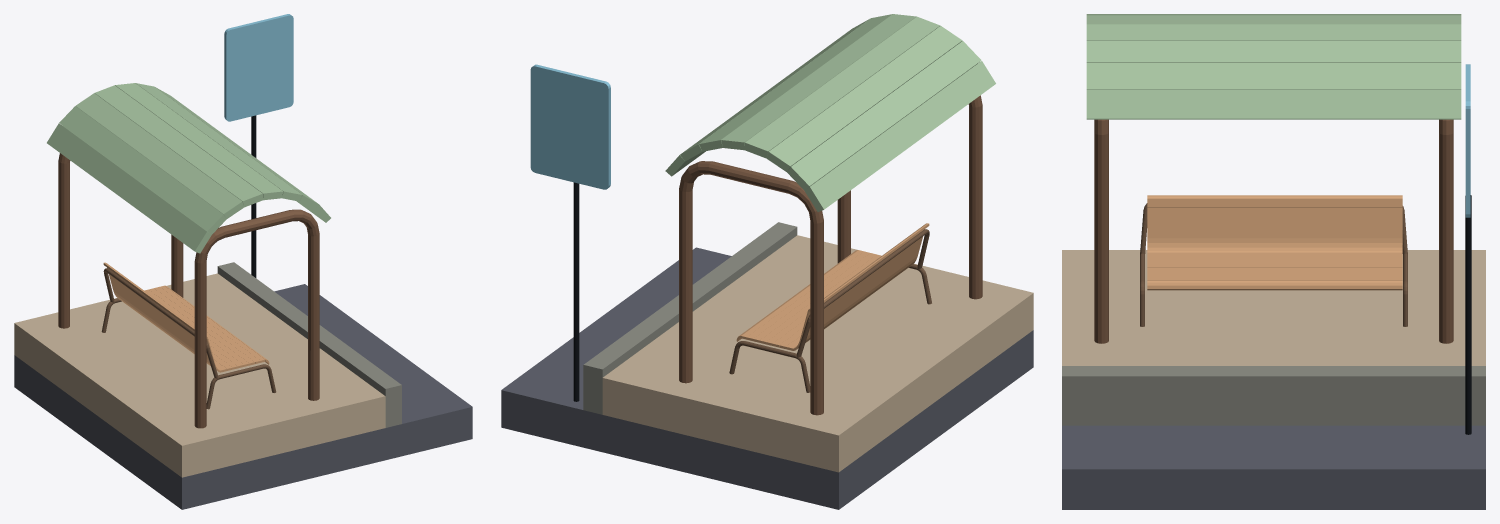
File: bus stop.glb
3 views of the same model, side by side, from view 1: azimuth 30°, elevation 25°; view 2: azimuth 150°, elevation 25°; view 3: azimuth 270°, elevation 25° (orthographic). The views are drawn at different scales.
Visible parts, largest first — view 1: Base, Roof, Road, Roof_frame, Sign, Chair, Sidewalk, Chair_frame, Sign_post; view 2: Base, Roof, Road, Roof_frame, Sign, Chair, Sidewalk, Chair_frame, Sign_post; view 3: Roof, Road, Base, Sidewalk, Chair, Roof_frame, Sign_post, Chair_frame, Sign.
Boxes of the visible parts, <box> form: Base: <box>14,273,385,477</box>; Roof: <box>47,83,330,253</box>; Road: <box>14,284,472,509</box>; Roof_frame: <box>58,153,319,428</box>; Sign: <box>224,14,293,121</box>; Chair: <box>103,262,269,372</box>; Sidewalk: <box>217,262,401,427</box>; Chair_frame: <box>101,268,276,409</box>; Sign_post: <box>251,115,256,277</box>; Base: <box>602,235,1033,472</box>; Roof: <box>665,14,995,211</box>; Road: <box>501,247,1033,509</box>; Roof_frame: <box>679,95,982,415</box>; Sign: <box>530,64,610,189</box>; Chair: <box>736,223,929,350</box>; Sidewalk: <box>583,222,797,414</box>; Chair_frame: <box>729,229,931,392</box>; Sign_post: <box>573,182,579,401</box>; Roof: <box>1086,14,1461,119</box>; Road: <box>1062,425,1485,509</box>; Base: <box>1062,250,1485,365</box>; Sidewalk: <box>1062,366,1485,425</box>; Chair: <box>1147,195,1402,290</box>; Roof_frame: <box>1094,119,1453,343</box>; Sign_post: <box>1465,195,1471,434</box>; Chair_frame: <box>1140,203,1407,326</box>; Sign: <box>1465,64,1470,217</box>.
Size of the model in its own units: 4 by 4.11 by 4.
